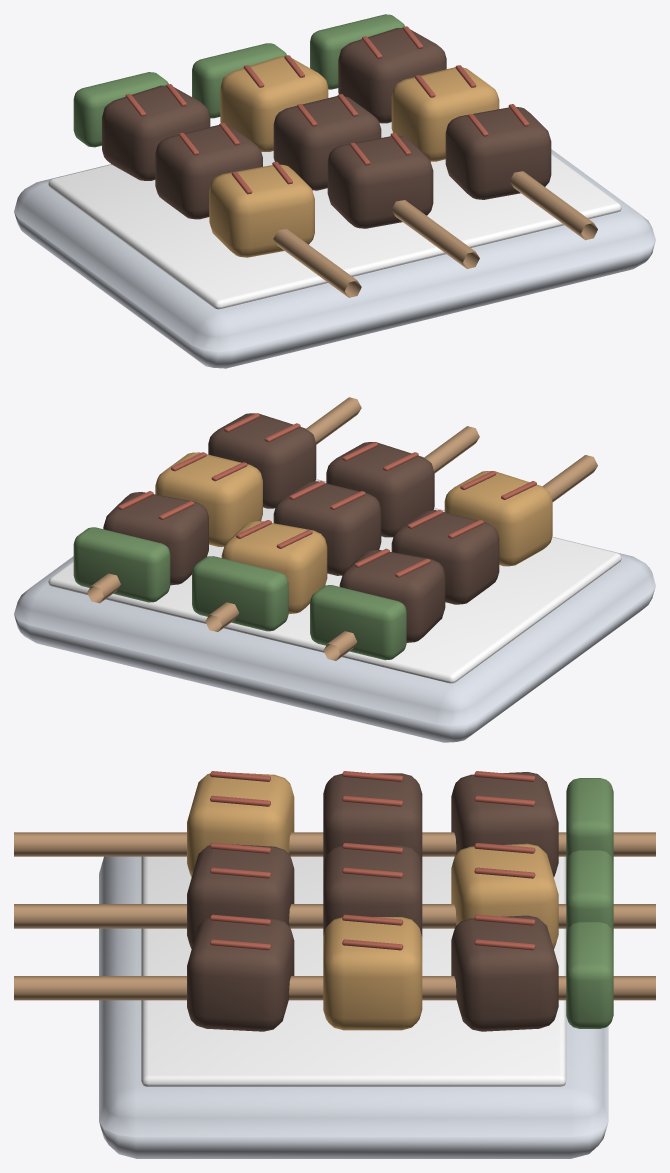
Rendered from option-barbecue.glb.
3 views of the same model, one above another, from view 1: azimuth 30°, elevation 25°; view 2: azimuth 150°, elevation 25°; view 3: azimuth 270°, elevation 25° (orthographic). The views are drawn at different scales.
Parts seen in each view (by area): view 1: Model_Barbecue_Patty, Model_Barbecue_Base, Model_Barbecue_Surface, Model_Barbecue_Bun, Model_Barbecue_Leaf, Model_Barbecue_Wood, Model_Barbecue_Tomato; view 2: Model_Barbecue_Base, Model_Barbecue_Patty, Model_Barbecue_Surface, Model_Barbecue_Bun, Model_Barbecue_Leaf, Model_Barbecue_Wood, Model_Barbecue_Tomato; view 3: Model_Barbecue_Patty, Model_Barbecue_Base, Model_Barbecue_Surface, Model_Barbecue_Bun, Model_Barbecue_Wood, Model_Barbecue_Leaf, Model_Barbecue_Tomato.
Boxes of the visible parts, x1,y1,x2,y2 form: Model_Barbecue_Patty: [102, 28, 551, 228]; Model_Barbecue_Base: [14, 149, 655, 368]; Model_Barbecue_Surface: [48, 122, 621, 309]; Model_Barbecue_Bun: [209, 56, 499, 257]; Model_Barbecue_Leaf: [73, 14, 405, 147]; Model_Barbecue_Wood: [273, 171, 597, 297]; Model_Barbecue_Tomato: [125, 26, 529, 194]; Model_Barbecue_Base: [14, 479, 655, 742]; Model_Barbecue_Patty: [103, 413, 499, 642]; Model_Barbecue_Surface: [48, 479, 621, 683]; Model_Barbecue_Bun: [155, 452, 552, 613]; Model_Barbecue_Leaf: [73, 527, 406, 660]; Model_Barbecue_Wood: [87, 397, 597, 660]; Model_Barbecue_Tomato: [118, 413, 536, 577]; Model_Barbecue_Patty: [187, 772, 558, 1031]; Model_Barbecue_Base: [99, 856, 608, 1158]; Model_Barbecue_Surface: [141, 856, 566, 1086]; Model_Barbecue_Bun: [187, 772, 558, 1030]; Model_Barbecue_Wood: [14, 832, 655, 1000]; Model_Barbecue_Leaf: [566, 778, 613, 1028]; Model_Barbecue_Tomato: [210, 771, 535, 950].
Bounding box in the file's own units: 0.7 × 0.2025 × 0.68.
